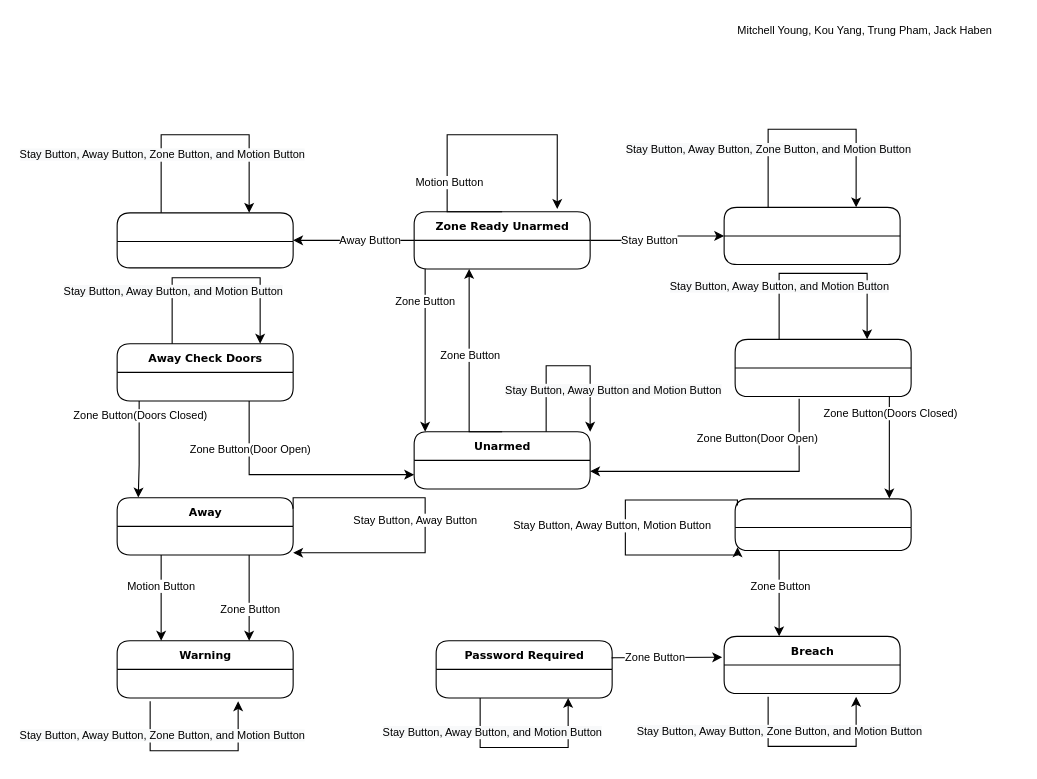
The diagram is 1037 pixels wide and 779 high, and some of its shapes have lost their labels. Each missing label, with the centre of its shape:
Away Countdown: point 204,240
Stay: point 822,524
Stay Check Doors: point 822,367
Stay Countdown: point 811,235
